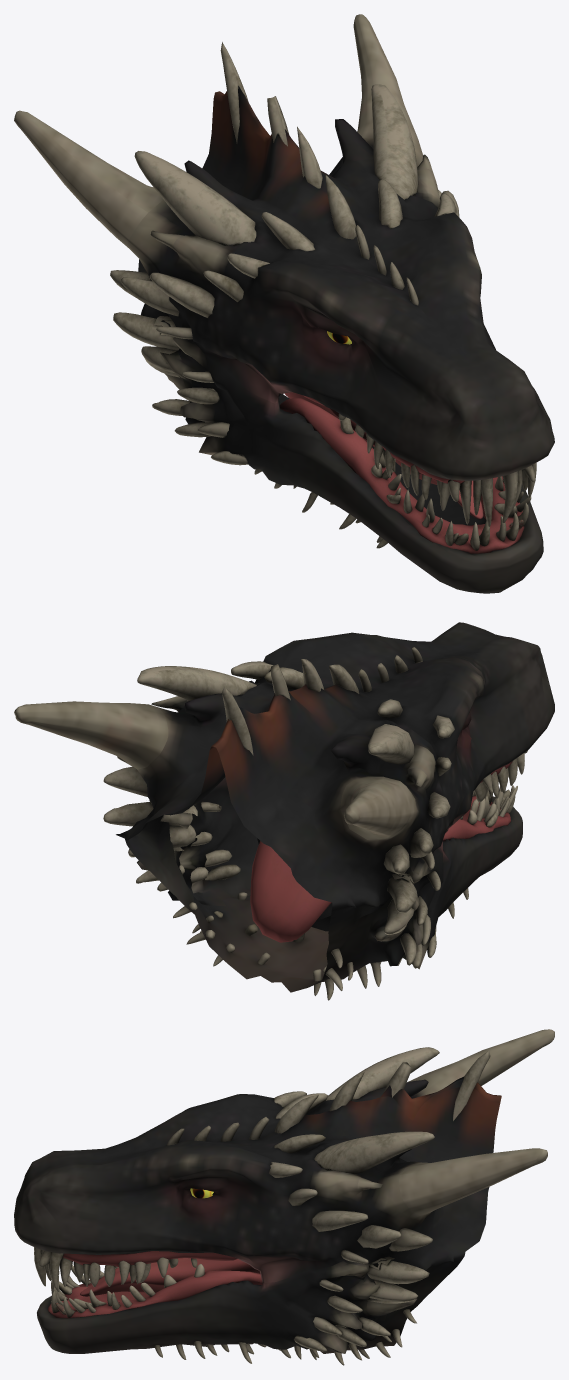
Rendered from dragon_00004.obj.
The picture shows the model from 3 angles, top to bottom: view 1: azimuth 30°, elevation 25°; view 2: azimuth 150°, elevation 25°; view 3: azimuth 270°, elevation 25°; orthographic projection. The views are drawn at different scales.
Visible parts, largest first — view 1: Dragon_Untitled; view 2: Dragon_Untitled; view 3: Dragon_Untitled.
Part boxes in pixels (x1,y1,x2,y2): Dragon_Untitled: (14, 14, 554, 593); Dragon_Untitled: (14, 622, 554, 1000); Dragon_Untitled: (14, 1029, 554, 1365).
Bounding box in the file's own units: 2.72 × 2.71 × 4.46.
